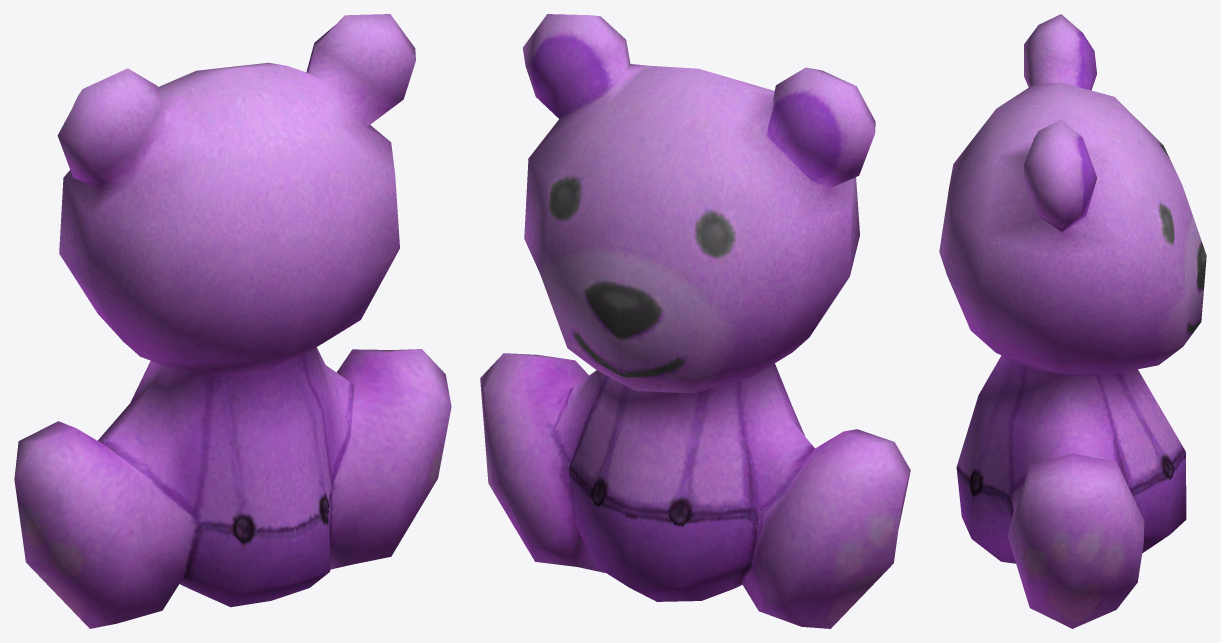
Rendered from furni_0200146_01.FBX.
3 views of the same model, side by side, from view 1: azimuth 30°, elevation 25°; view 2: azimuth 150°, elevation 25°; view 3: azimuth 270°, elevation 25° (orthographic). The views are drawn at different scales.
Visible parts, largest first — view 1: furni_0200146_01; view 2: furni_0200146_01; view 3: furni_0200146_01.
Boxes of the visible parts, bbox=[...] form: furni_0200146_01: bbox=[14, 14, 451, 628]; furni_0200146_01: bbox=[480, 14, 910, 628]; furni_0200146_01: bbox=[939, 14, 1206, 628].
Size of the model in its own units: 46.51 by 57.44 by 28.07.
